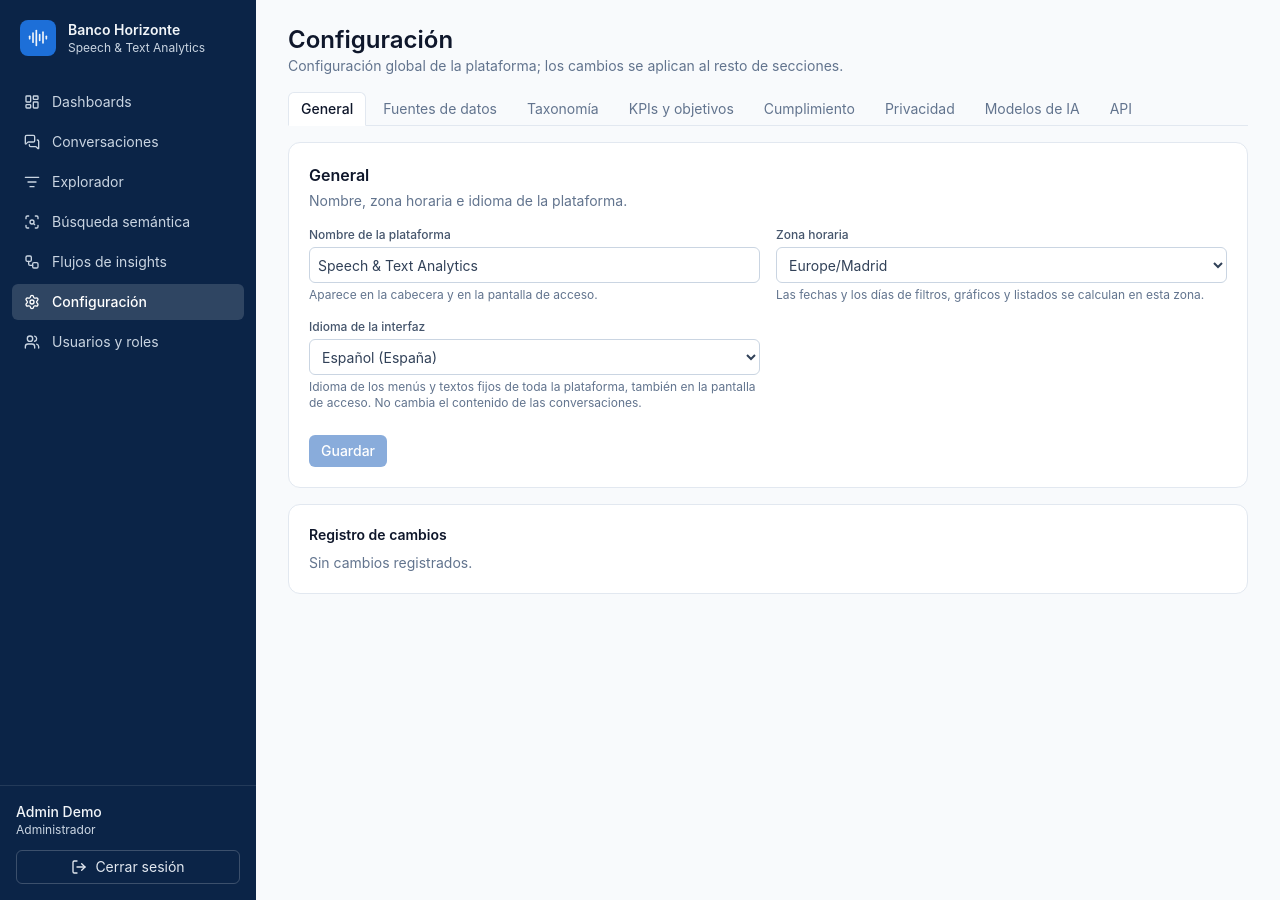
Test: Configuración: General › guarda los cambios y lo confirma
Click the tab "General": click(327, 109) 288,92 -> 366,126
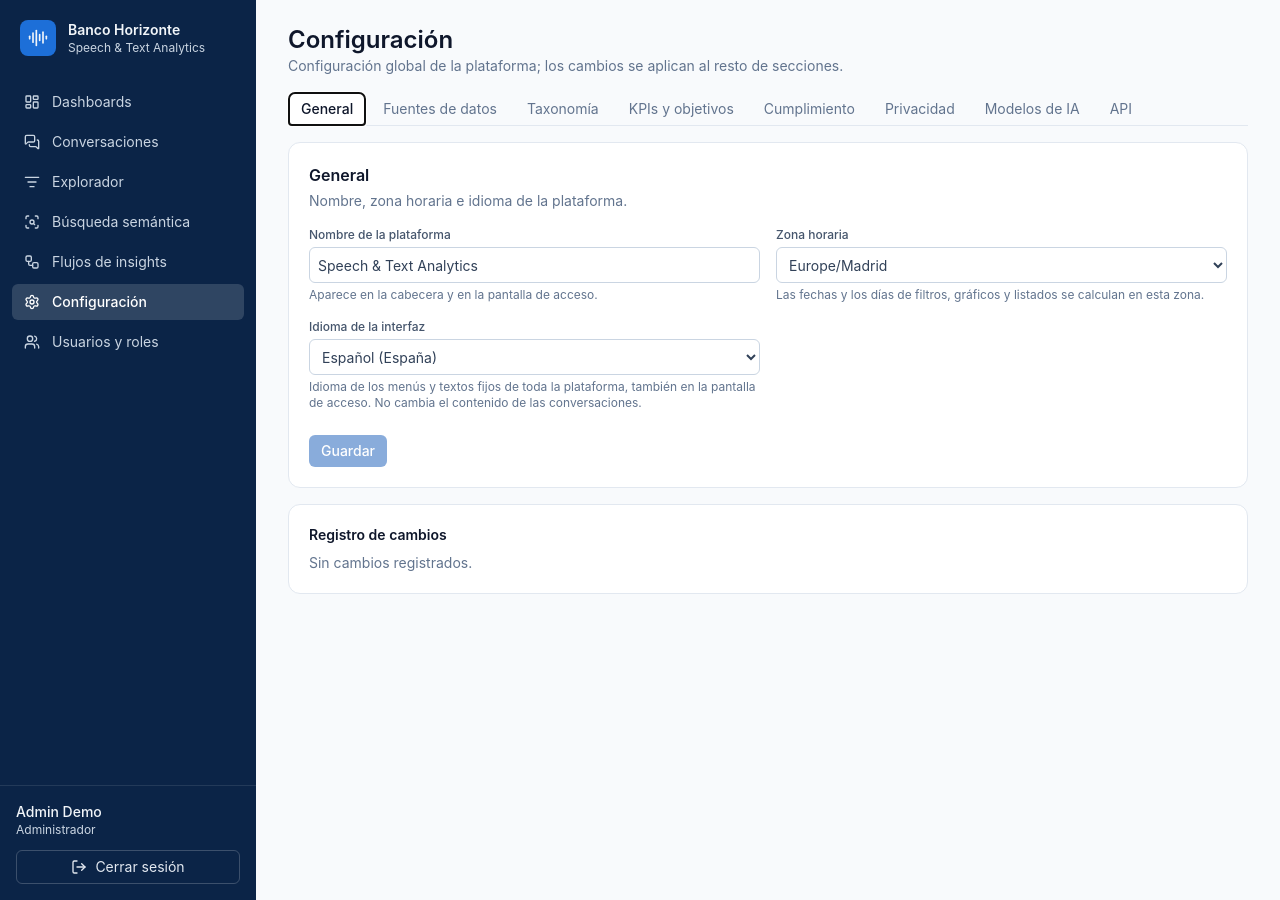
Replace the text in the field labelled "Nombre de la plataforma" with "Analítica Horizonte": (534, 265) 309,247 -> 760,283
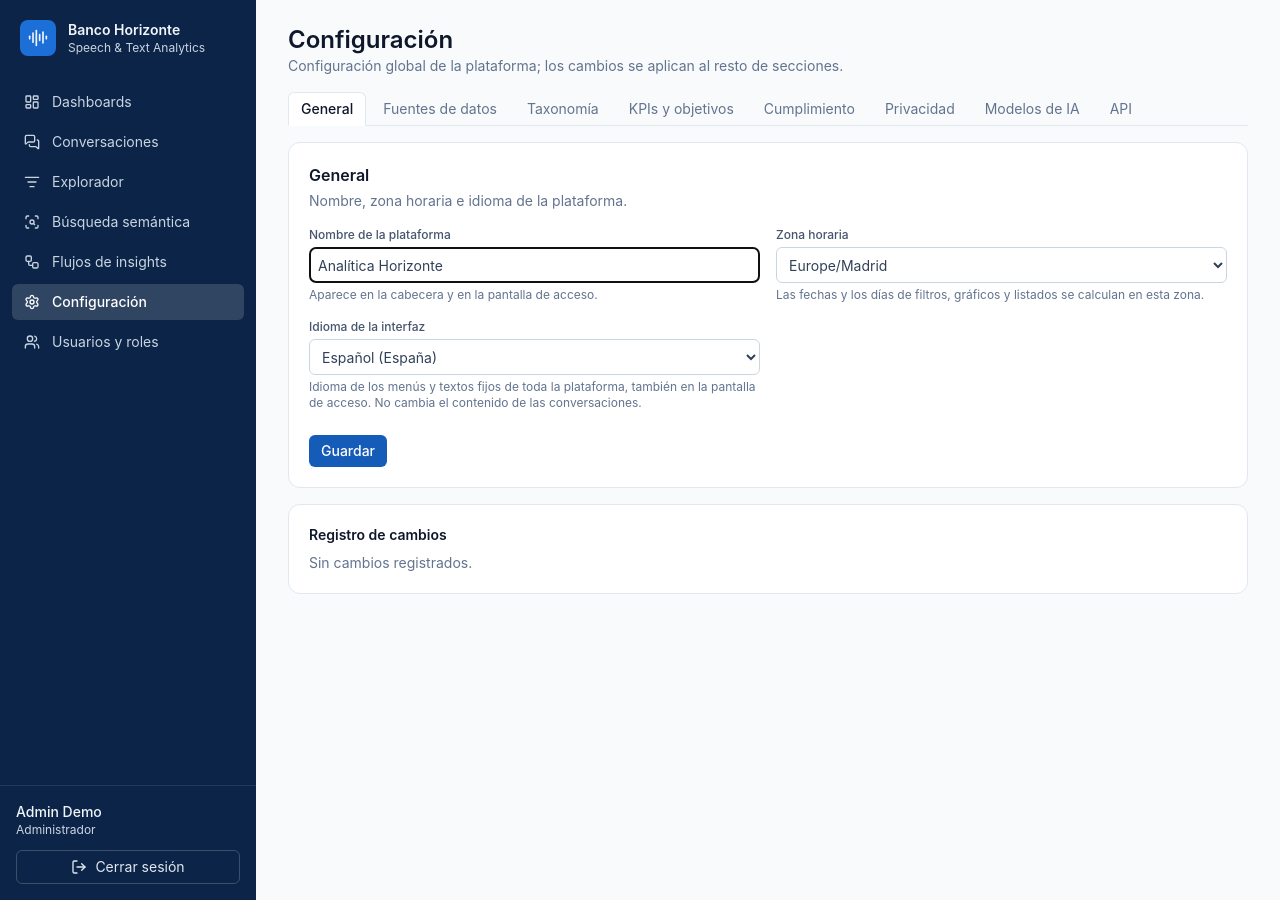
Select "Asia/Tokyo" in the dropdown labelled "Zona horaria": (1002, 265) 776,247 -> 1227,283
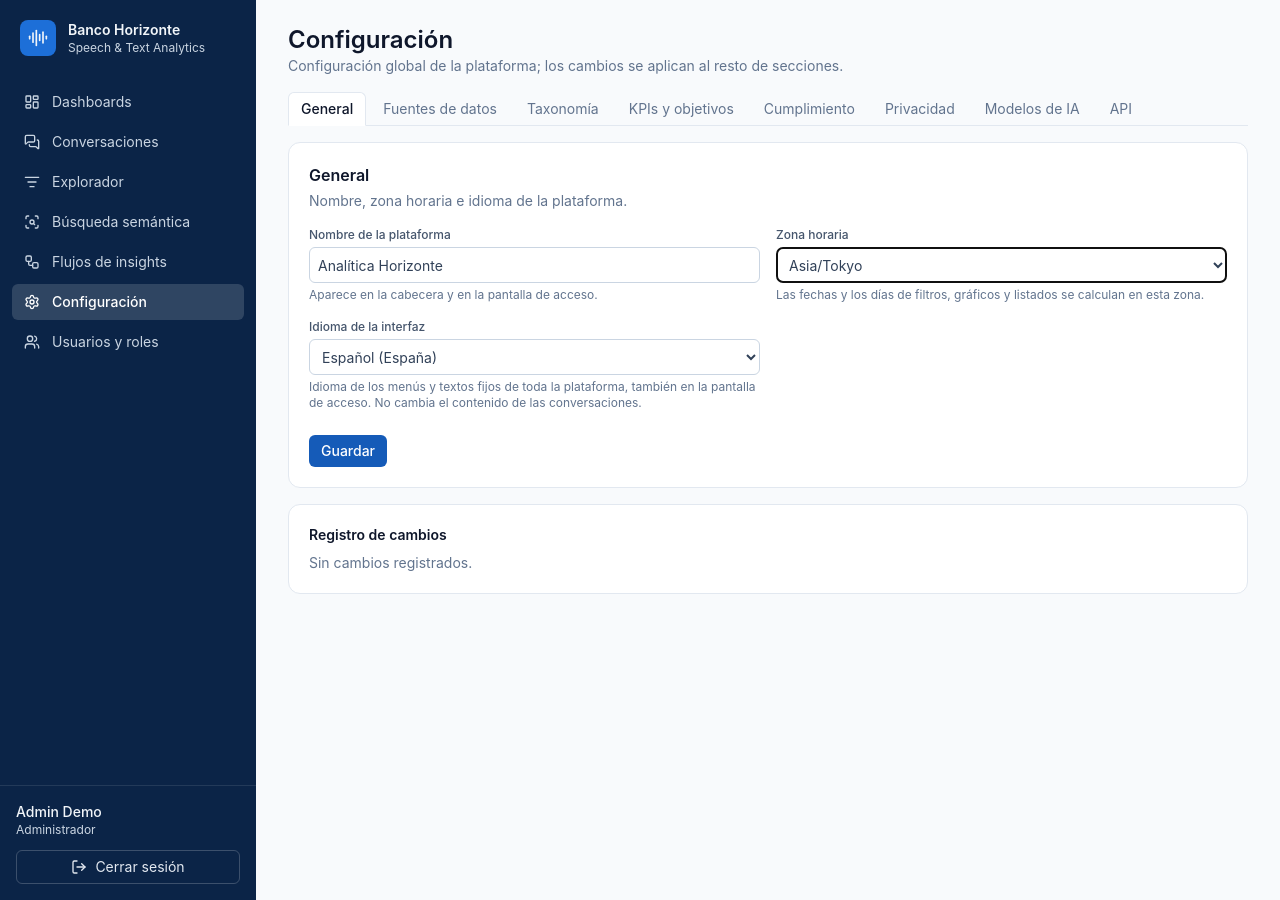
Click the button "Guardar": click(348, 451) 309,435 -> 387,467
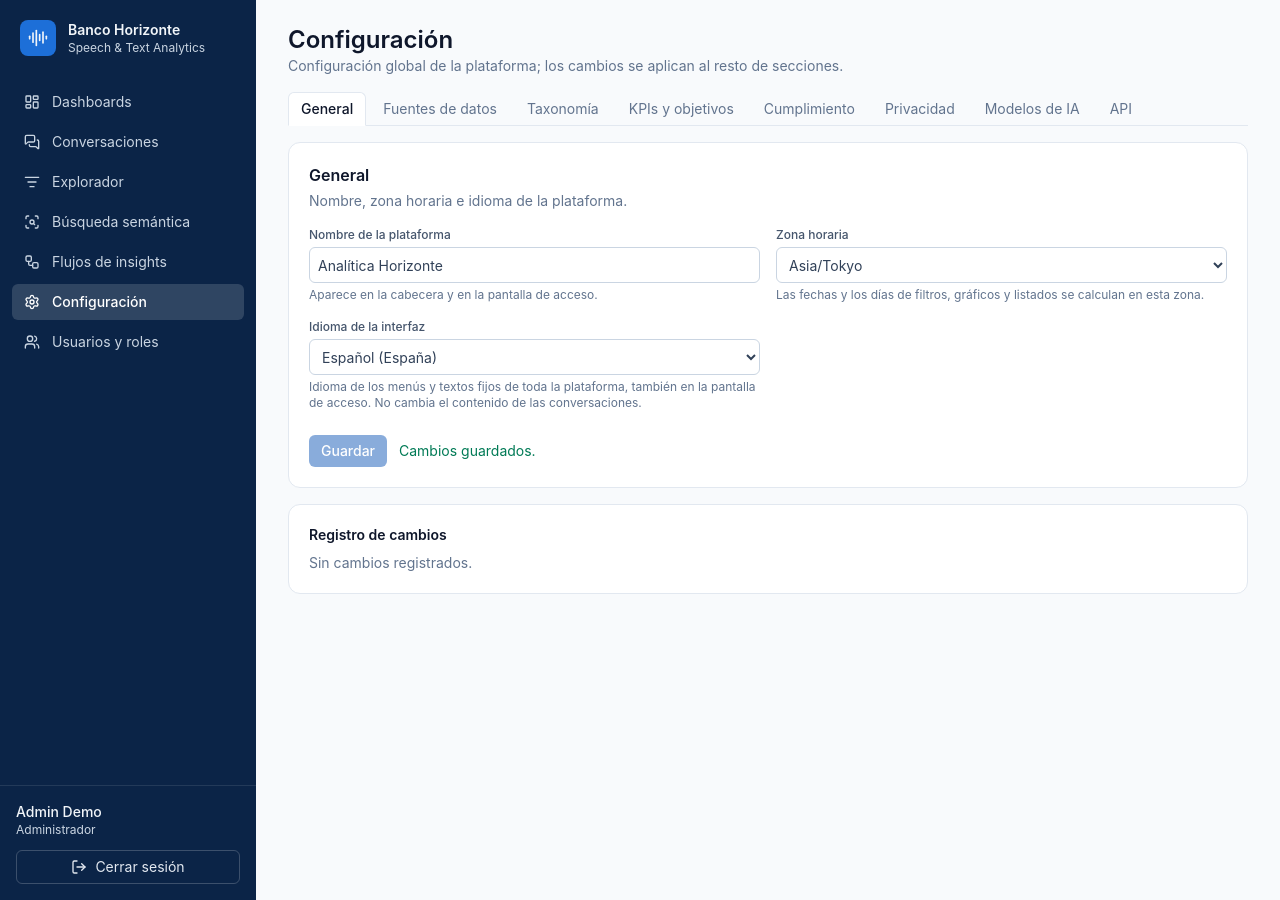
Check: the message shows "Cambios guardados", box 399,442 -> 536,459
